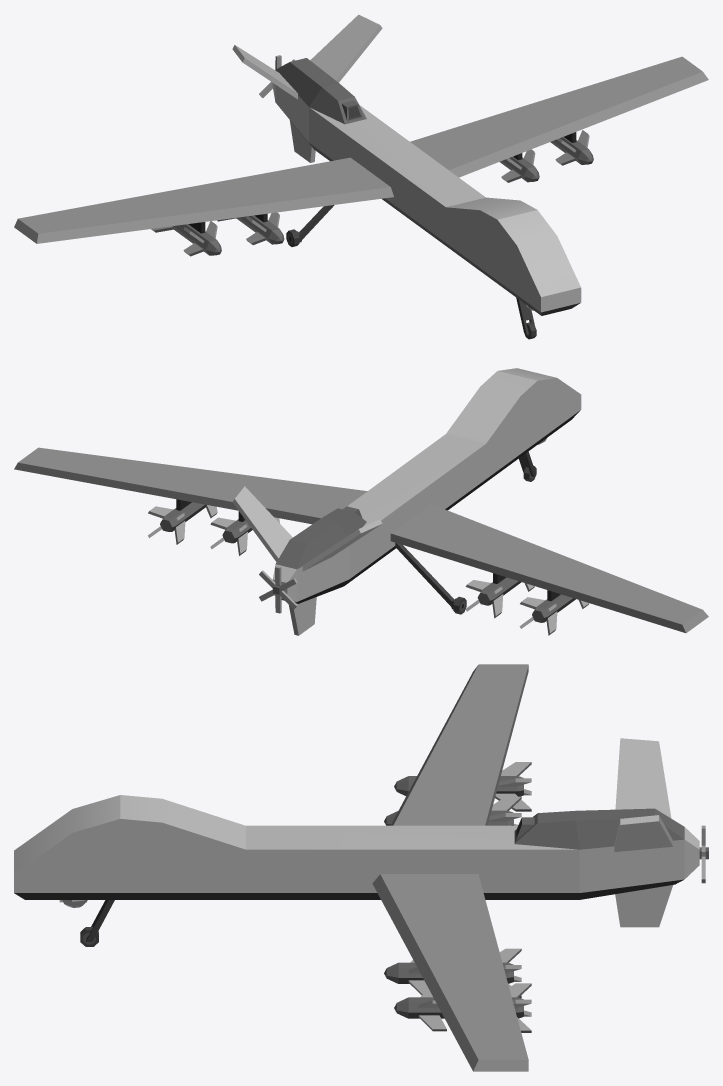
The model's file is MillitaryDrone.fbx.
3 renders of one model, top to bottom at view 1: azimuth 30°, elevation 25°; view 2: azimuth 150°, elevation 25°; view 3: azimuth 270°, elevation 25°, orthographic. The views are drawn at different scales.
Visible parts, largest first — view 1: MillitaryDrone, WheelR; view 2: MillitaryDrone, WheelR; view 3: MillitaryDrone.
Part boxes in pixels (x1,y1,x2,y2): MillitaryDrone: (14,14,708,315); WheelR: (286,205,334,246); MillitaryDrone: (14,368,708,635); WheelR: (395,542,466,614); MillitaryDrone: (14,664,708,1071).
Size of the model in its own units: 930 by 181 by 682.
